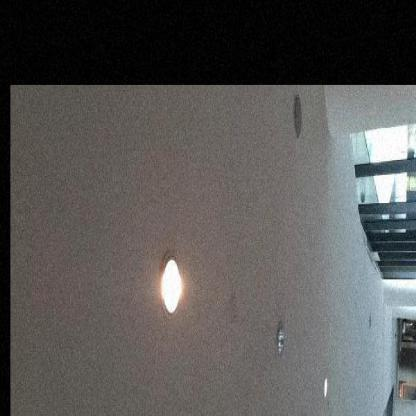light_on: (152, 244, 196, 325)
